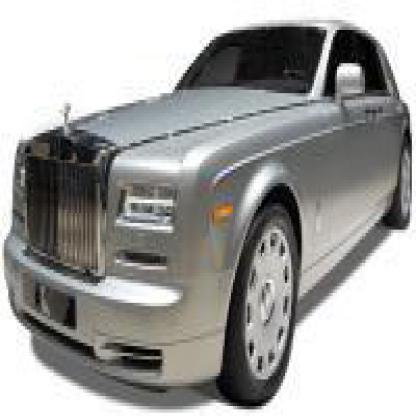Vehicle: (2, 23, 414, 413)
